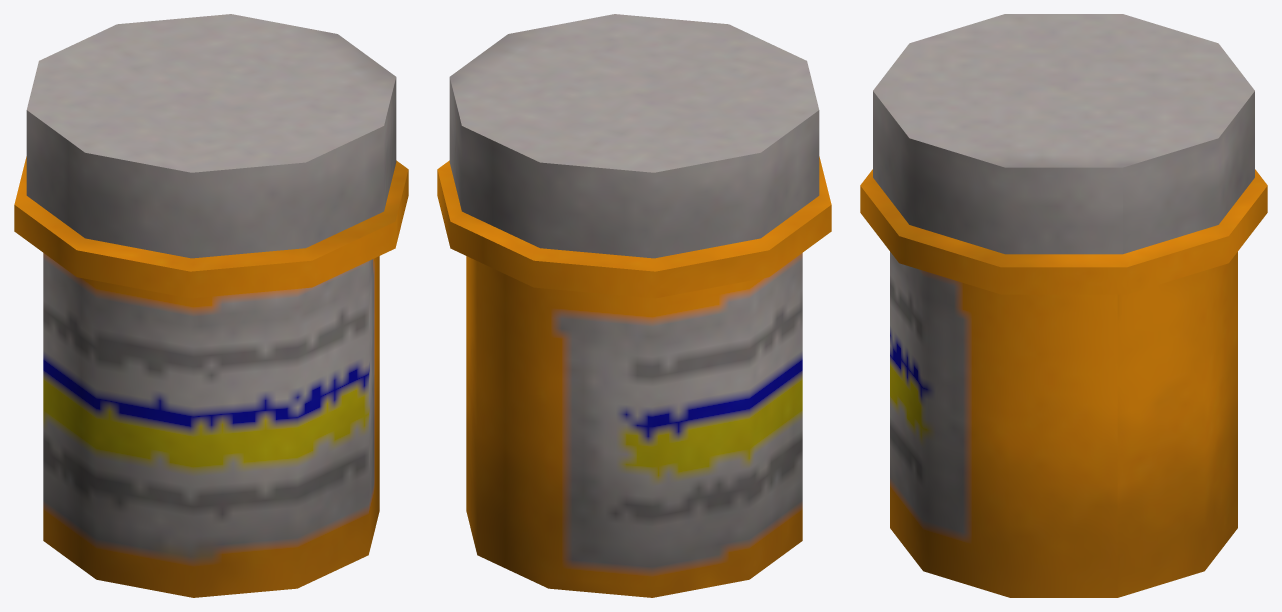
Rendered from painkillers.fbx.
The picture shows the model from 3 angles, left to right: view 1: azimuth 30°, elevation 25°; view 2: azimuth 150°, elevation 25°; view 3: azimuth 270°, elevation 25°; orthographic projection.
Visible parts, largest first — view 1: Cylinder; view 2: Cylinder; view 3: Cylinder.
Part boxes in pixels (box(x1,y1,x2,y2)): Cylinder: box(14, 14, 408, 597); Cylinder: box(437, 14, 831, 597); Cylinder: box(860, 14, 1267, 597).
Size of the model in its own units: 223 by 277 by 234.
Materials: 1 (1 with a texture image).
